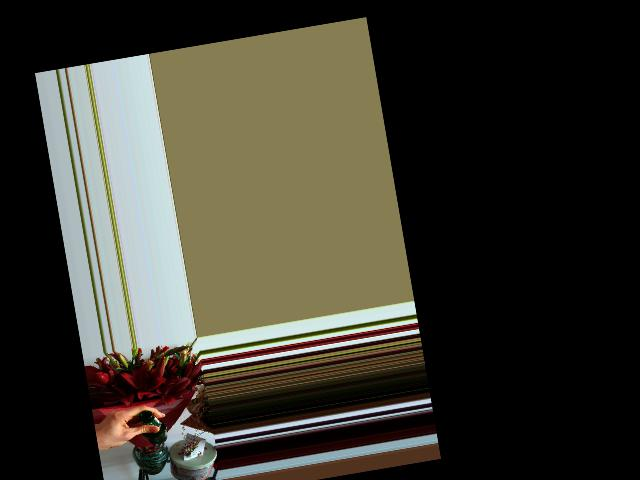beer: (136, 407, 168, 447)
